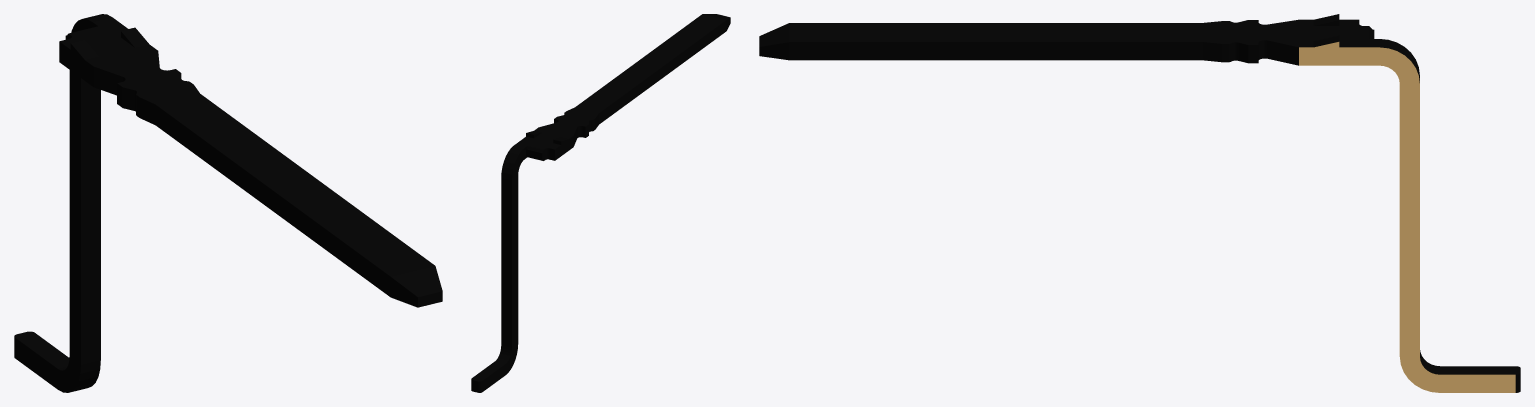
File: HDMI_socket.obj
3 renders of one model, left to right at view 1: azimuth 30°, elevation 25°; view 2: azimuth 150°, elevation 25°; view 3: azimuth 270°, elevation 25°, orthographic. The views are drawn at different scales.
Visible parts, largest first — view 1: HDMI_socket; view 2: HDMI_socket; view 3: HDMI_socket.
Part boxes in pixels (<box>): HDMI_socket: <box>14,14,442,392</box>; HDMI_socket: <box>471,14,730,392</box>; HDMI_socket: <box>759,14,1520,392</box>.
Bounding box in the file's own units: 0.00254 × 0.015 × 0.0295.
